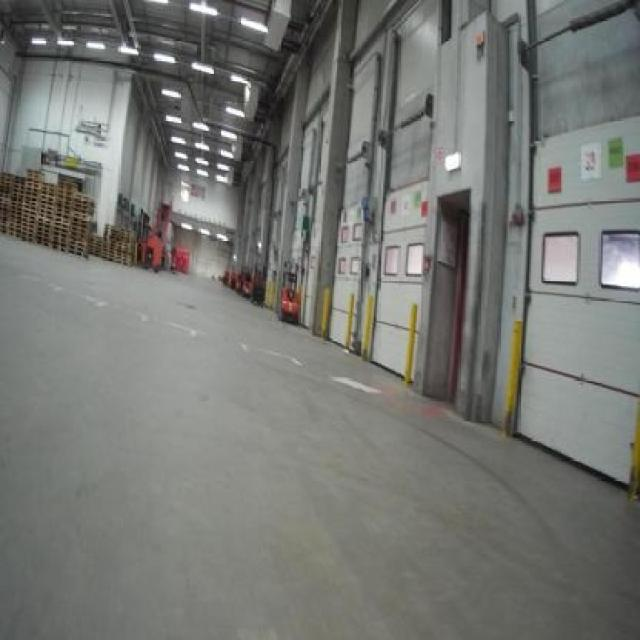floor: (0, 234, 637, 637)
pallets: (515, 115, 637, 483)
